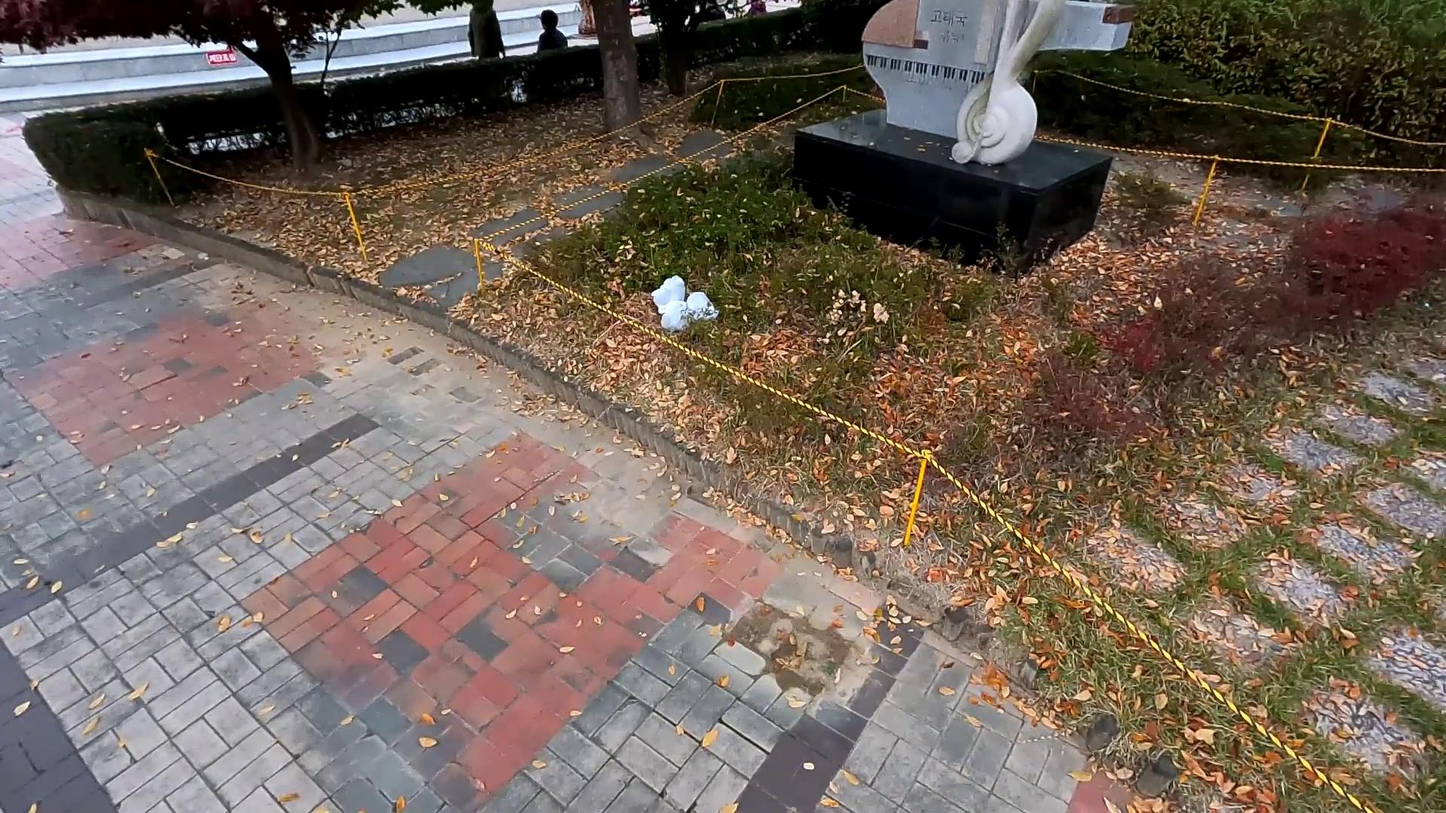trash: (682, 280, 717, 324), (651, 271, 692, 308), (657, 305, 692, 334)
